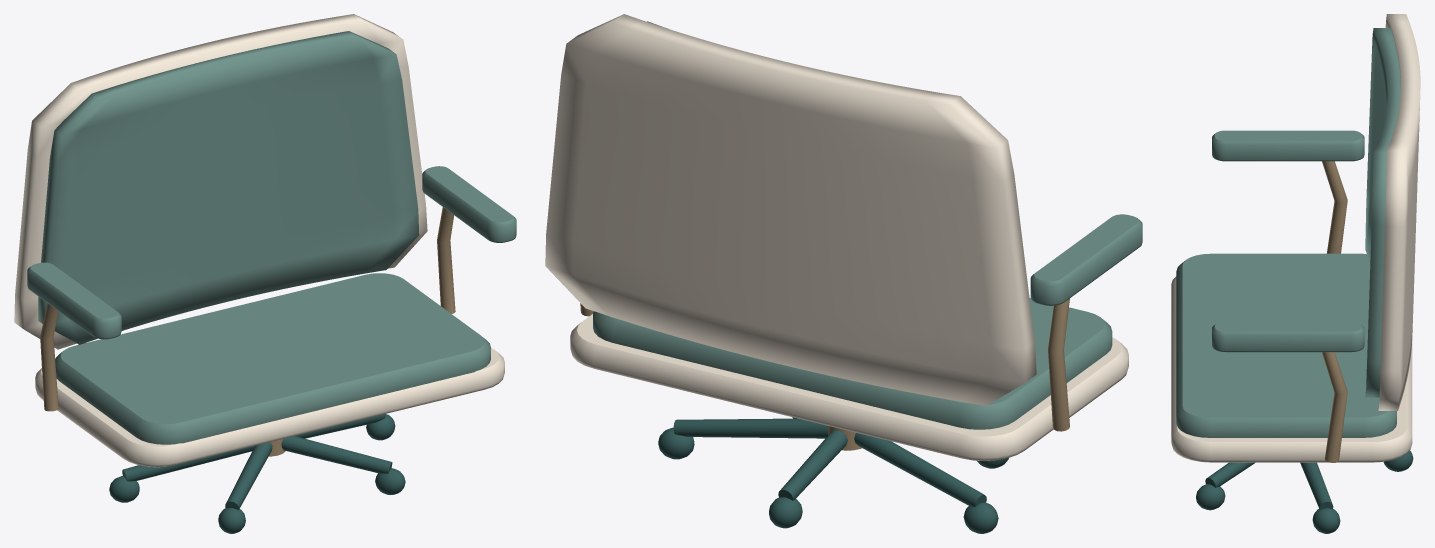
Rendered from patient-chair.glb.
The picture shows the model from 3 angles, left to right: view 1: azimuth 30°, elevation 25°; view 2: azimuth 150°, elevation 25°; view 3: azimuth 270°, elevation 25°; orthographic projection. The views are drawn at different scales.
Visible parts, largest first — view 1: patient-chair; view 2: patient-chair; view 3: patient-chair.
Boxes of the visible parts, bbox=[...] form: patient-chair: bbox=[14, 14, 516, 533]; patient-chair: bbox=[545, 14, 1142, 533]; patient-chair: bbox=[1171, 14, 1420, 533].
Size of the model in its own units: 0.94 by 0.835 by 0.486.
